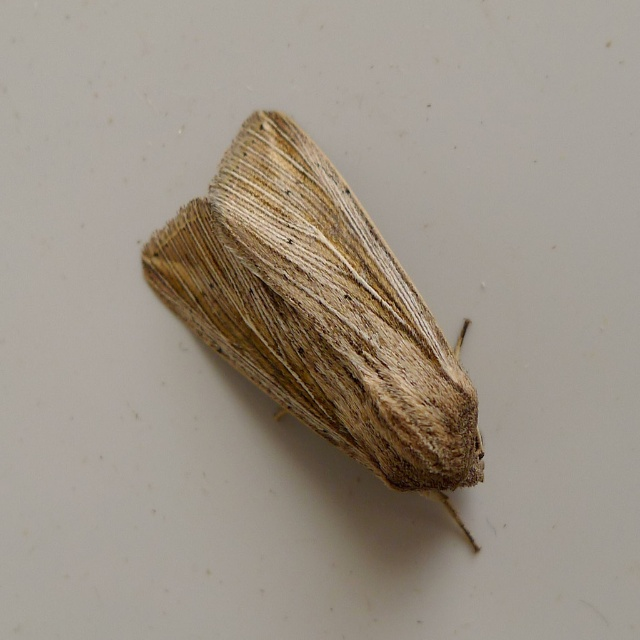Moths and butterflies: (137, 113, 490, 555)
